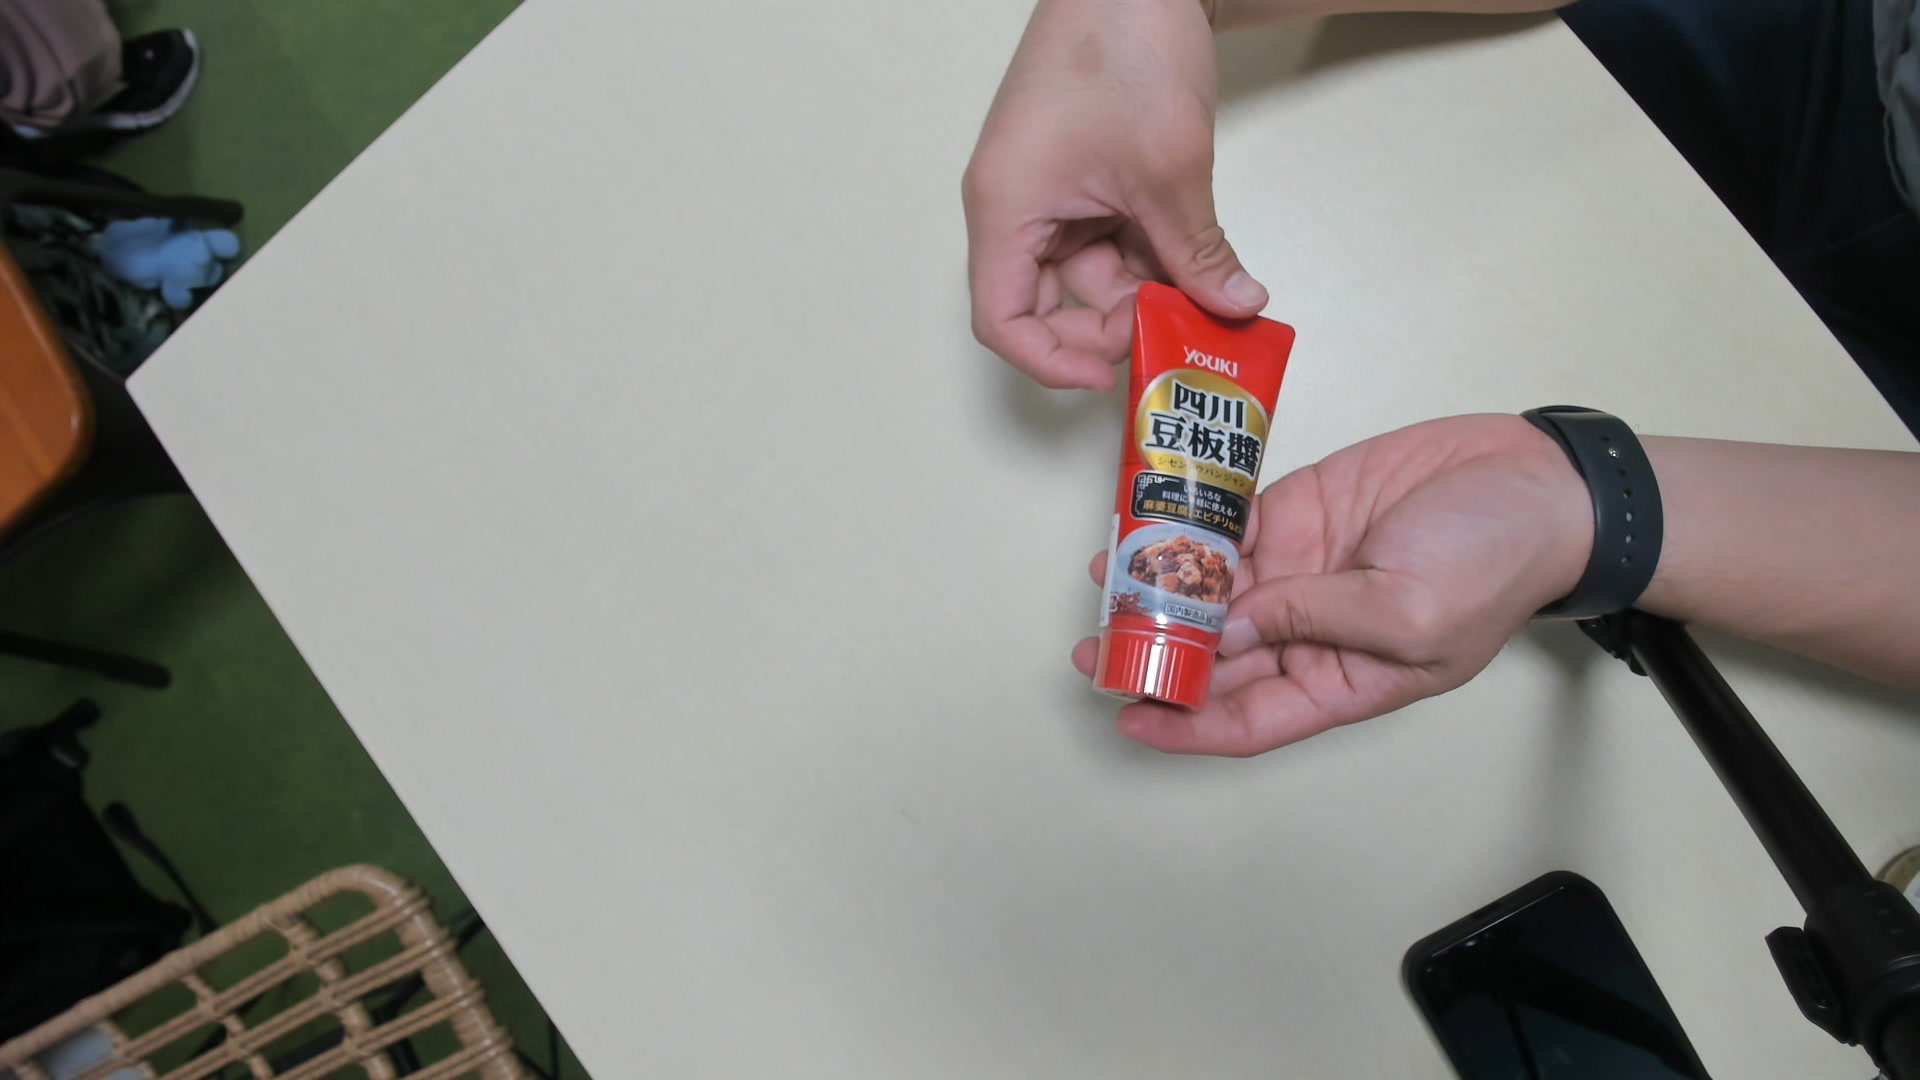OtherSauceDressing_100-199g_NonHalal_NonHealthy: (1098, 287, 1294, 716)
